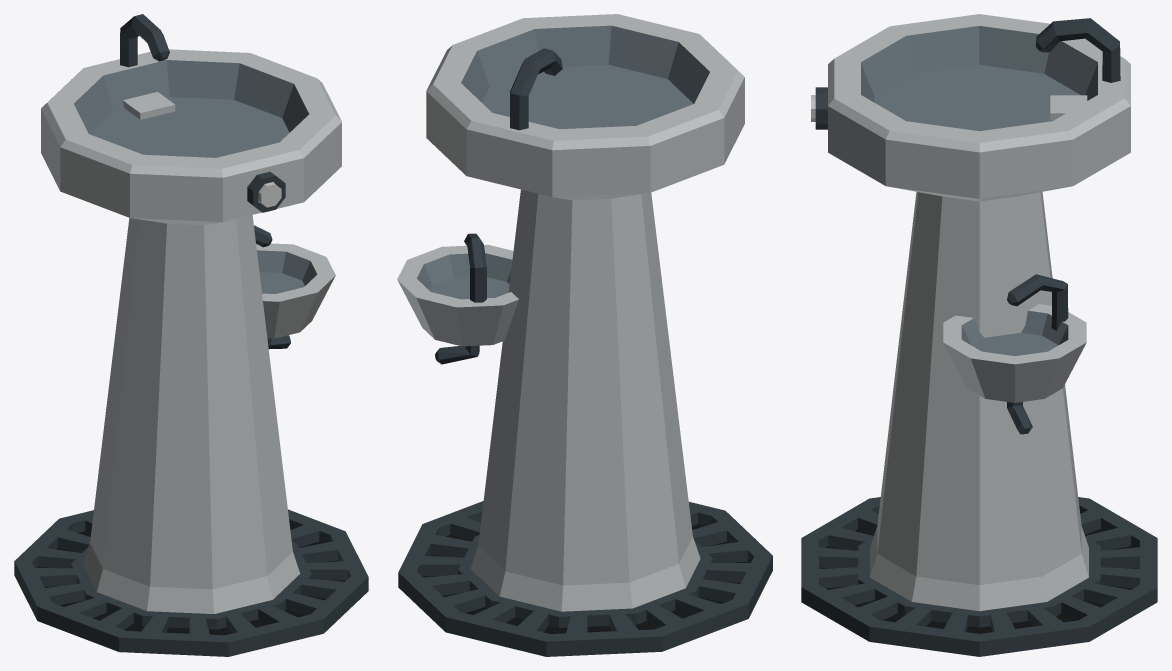
File: park-drinking-fountain-b1c25b.glb
3 views of the same model, side by side, from view 1: azimuth 30°, elevation 25°; view 2: azimuth 150°, elevation 25°; view 3: azimuth 270°, elevation 25° (orthographic). The views are drawn at different scales.
Parts seen in each view (by area): view 1: fountain-body; view 2: fountain-body; view 3: fountain-body.
Boxes of the visible parts, bbox=[...] form: fountain-body: bbox=[14, 14, 368, 656]; fountain-body: bbox=[397, 14, 772, 656]; fountain-body: bbox=[801, 14, 1157, 656].
Size of the model in its own units: 0.67 by 1.1 by 0.6372.
